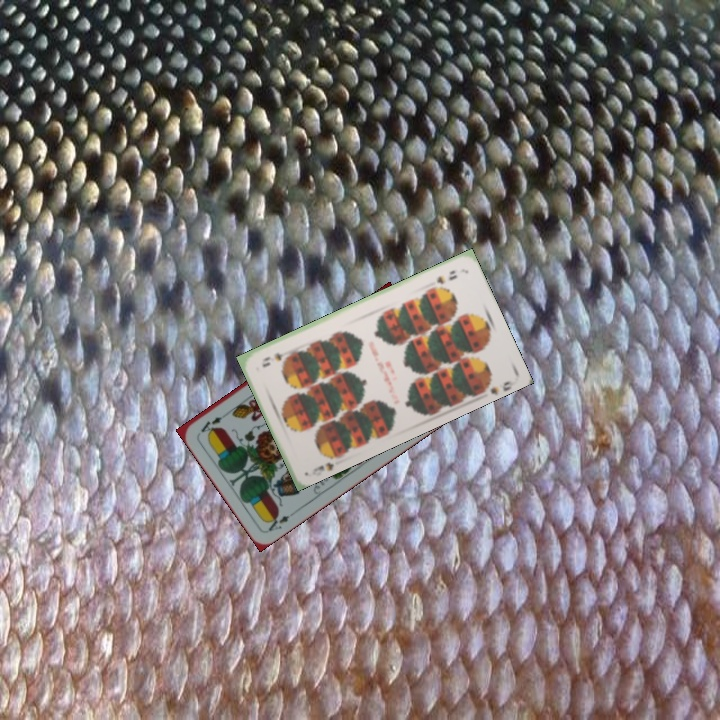EA: (263, 507, 299, 534)
S9: (308, 448, 343, 478), (433, 266, 459, 287)
